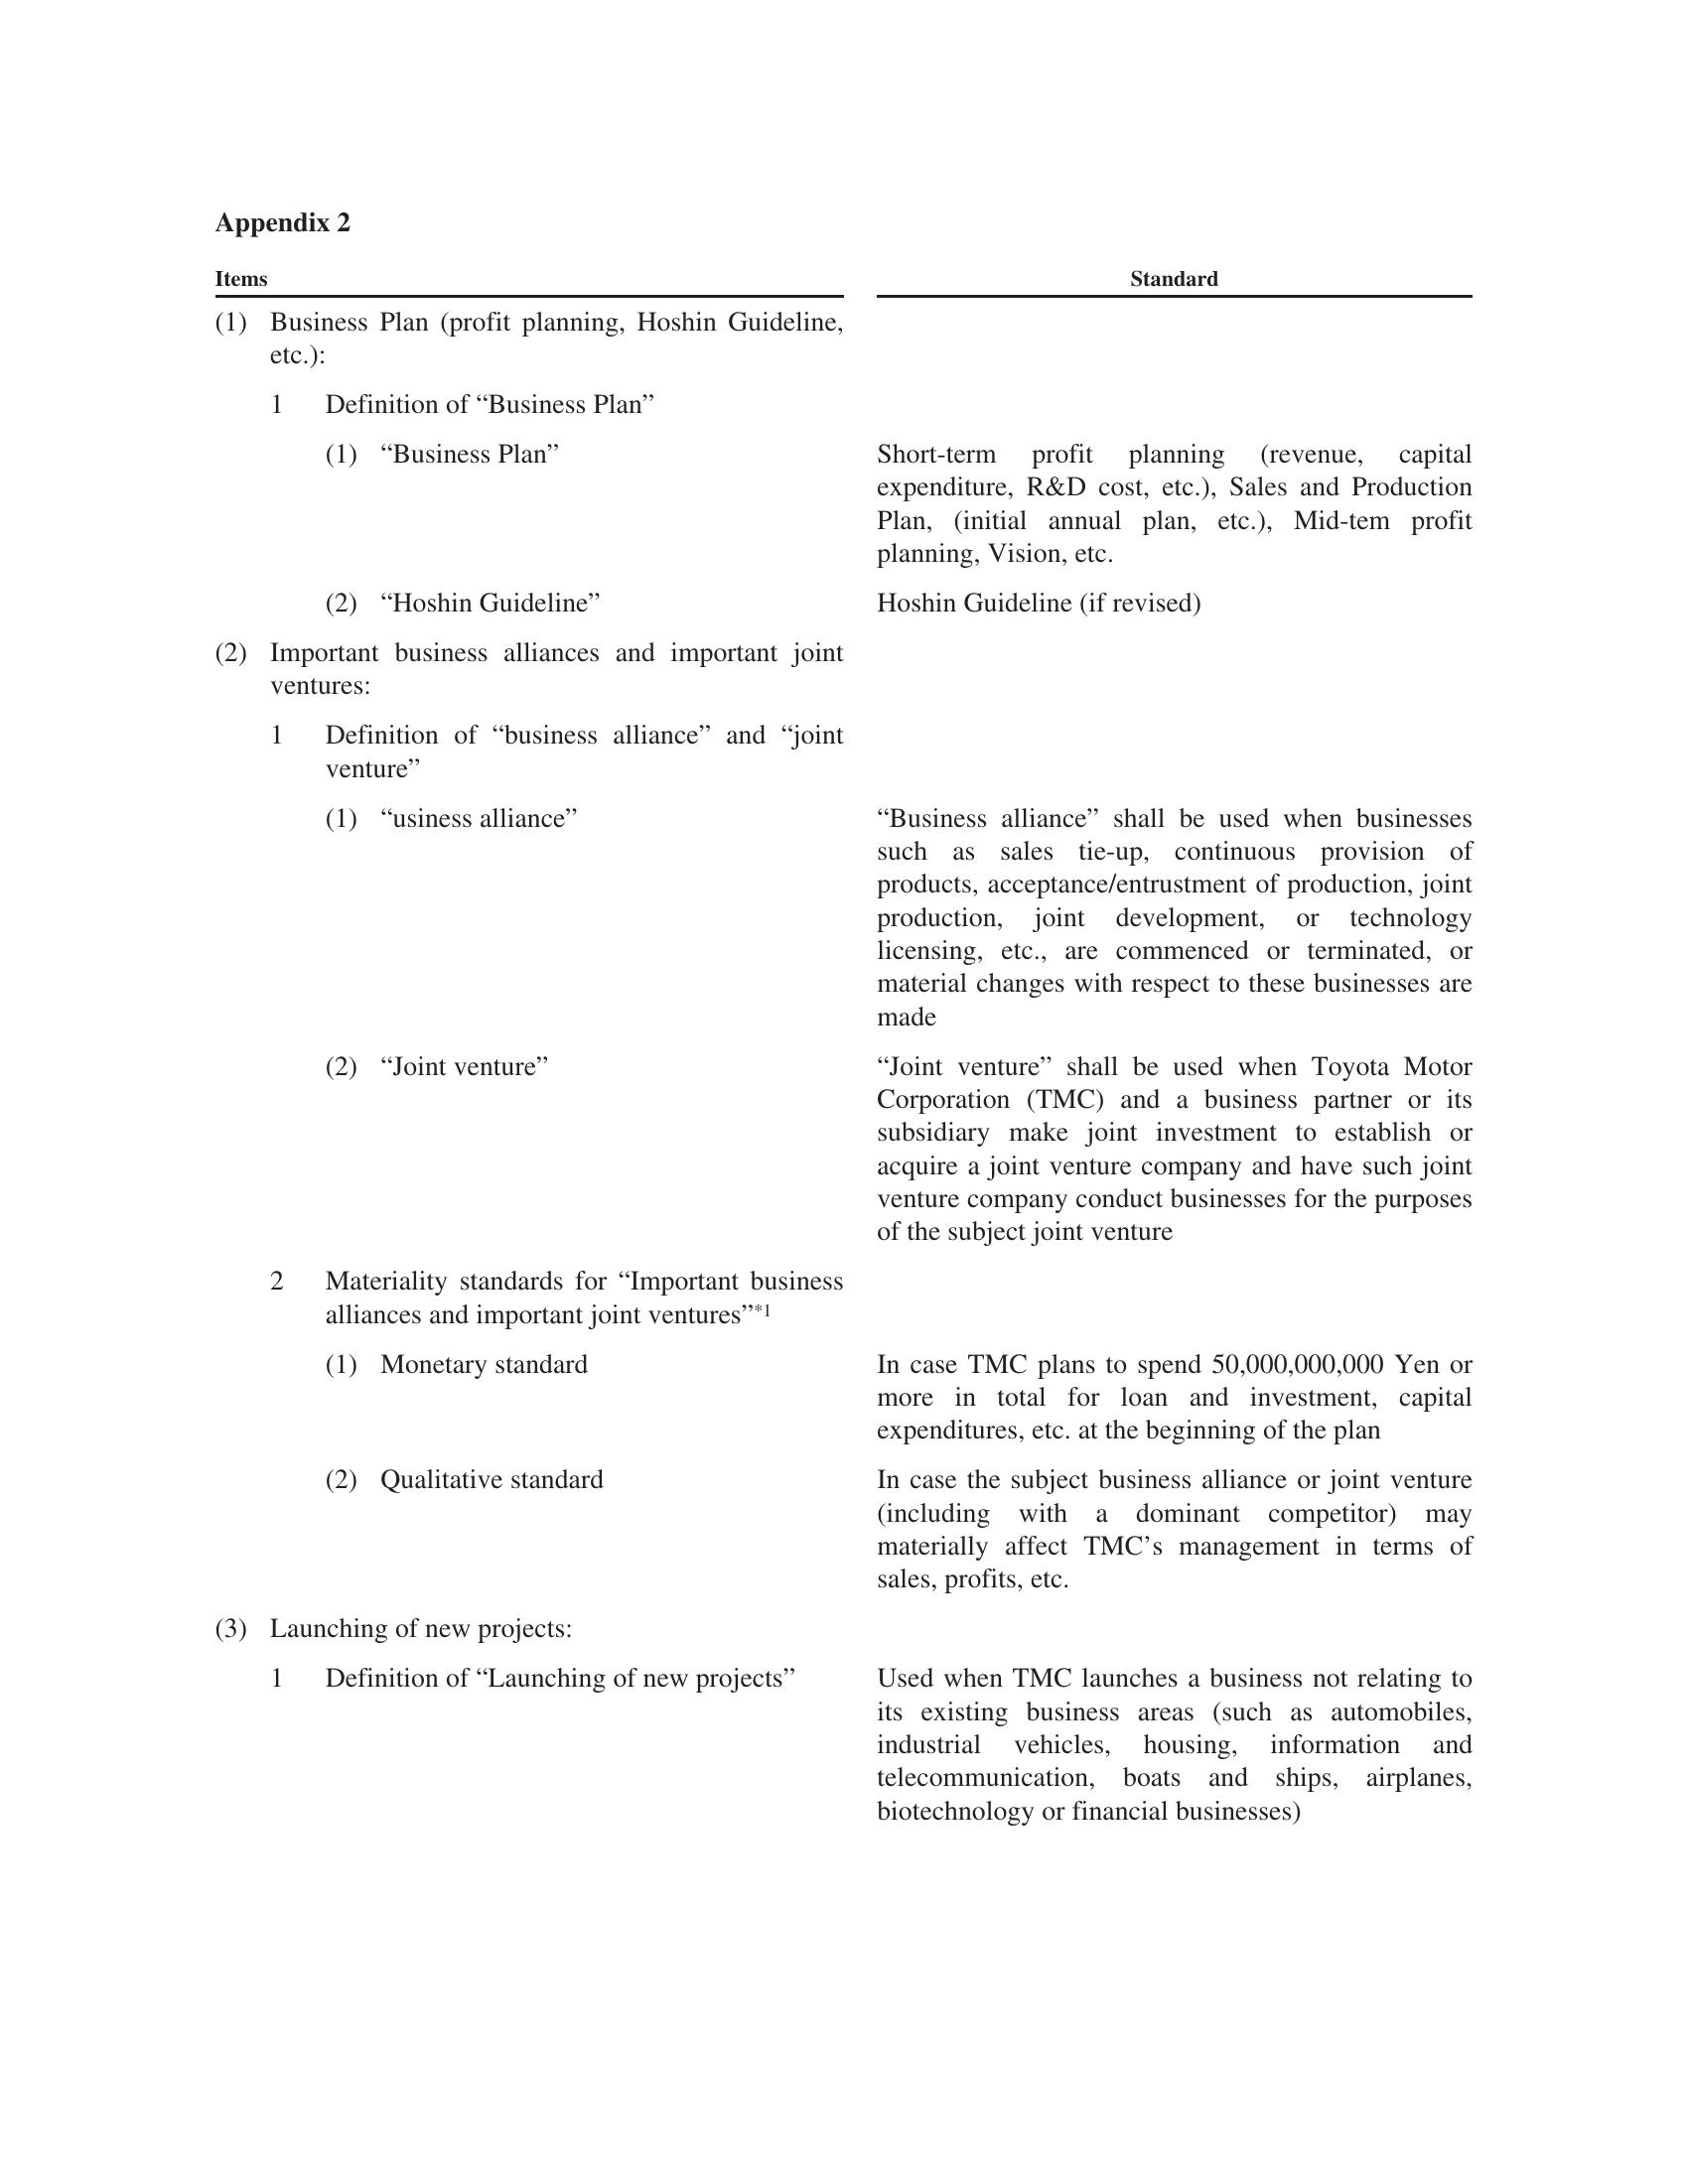Footer: (0, 1950, 1688, 2184)
Header: (0, 0, 1688, 171)
Table: (137, 251, 1521, 1814)
